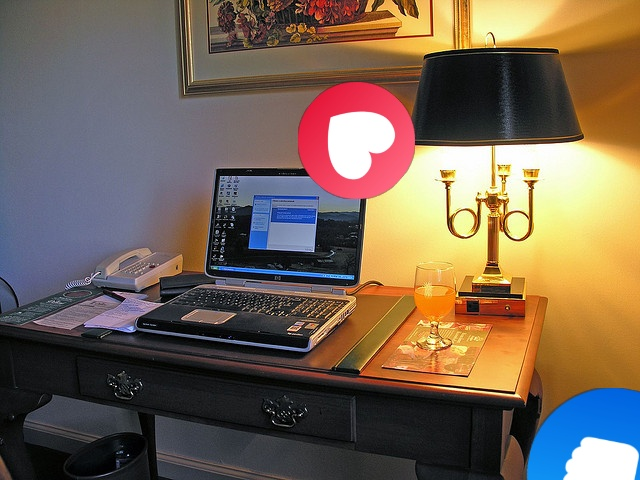like: (527, 388, 640, 480)
love: (298, 82, 415, 199)
